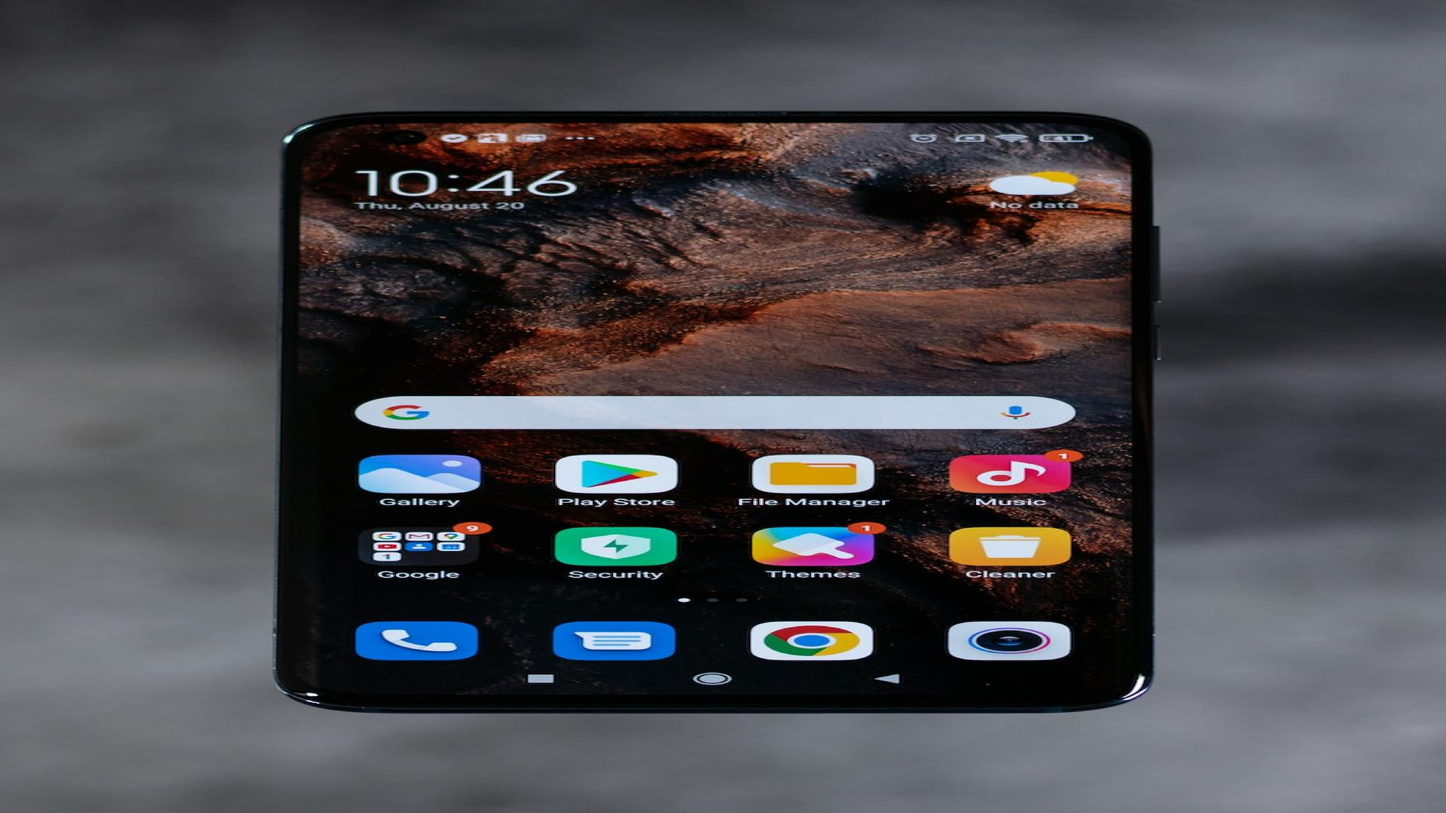phone: (276, 112, 1173, 719)
